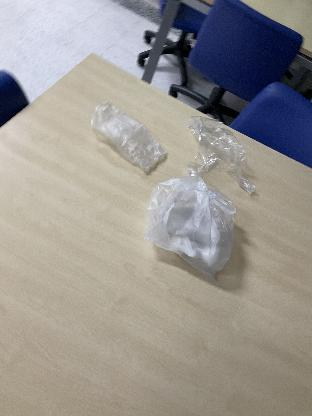Others: (147, 159, 253, 289), (81, 98, 169, 178), (186, 113, 260, 199)
